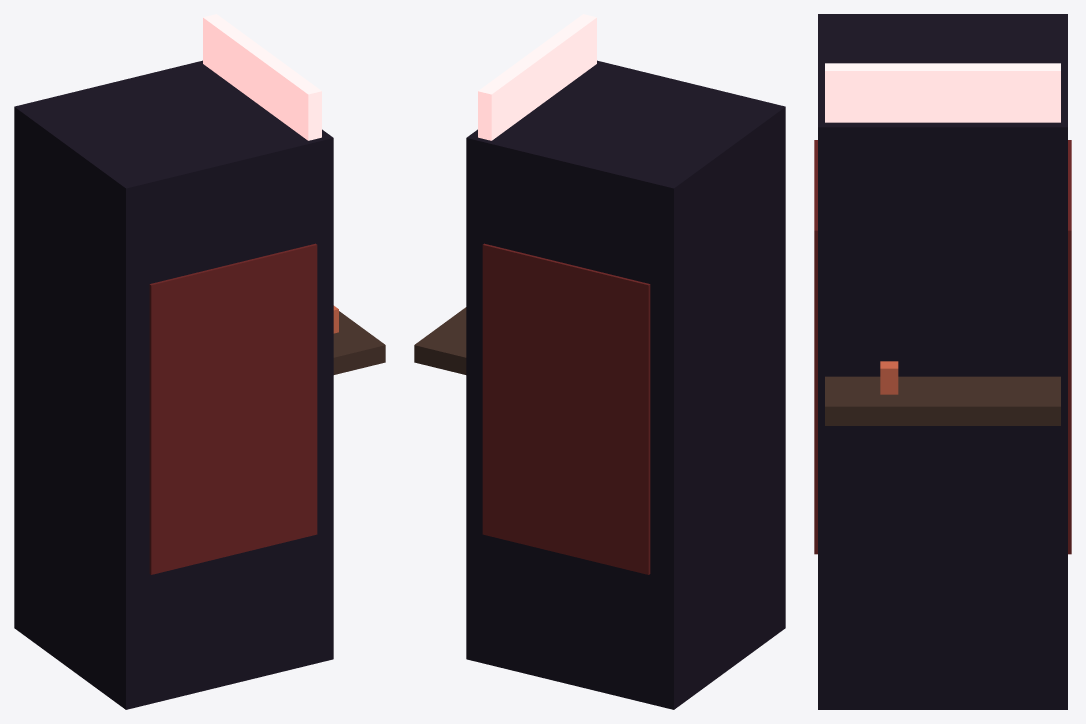
The model's file is wall_3.glb.
3 views of the same model, side by side, from view 1: azimuth 30°, elevation 25°; view 2: azimuth 150°, elevation 25°; view 3: azimuth 270°, elevation 25° (orthographic). The views are drawn at different scales.
Parts seen in each view (by area): view 1: Box1, Box2, Box4, Box5; view 2: Box1, Box2, Box4, Box5; view 3: Box1, Box4, Box5, Box2, Box6.
Part boxes in pixels (x1,y1,x2,y2): Box1: (14,60,333,709); Box2: (149,243,317,574); Box4: (203,14,321,140); Box5: (333,311,385,374); Box1: (466,60,785,709); Box2: (482,243,650,574); Box4: (478,14,596,140); Box5: (414,307,466,374); Box1: (818,14,1067,709); Box4: (825,63,1060,122); Box5: (825,376,1060,425); Box2: (814,140,1071,554); Box6: (880,361,898,394).
Size of the model in its own units: 0.95 by 1.96 by 0.72.
